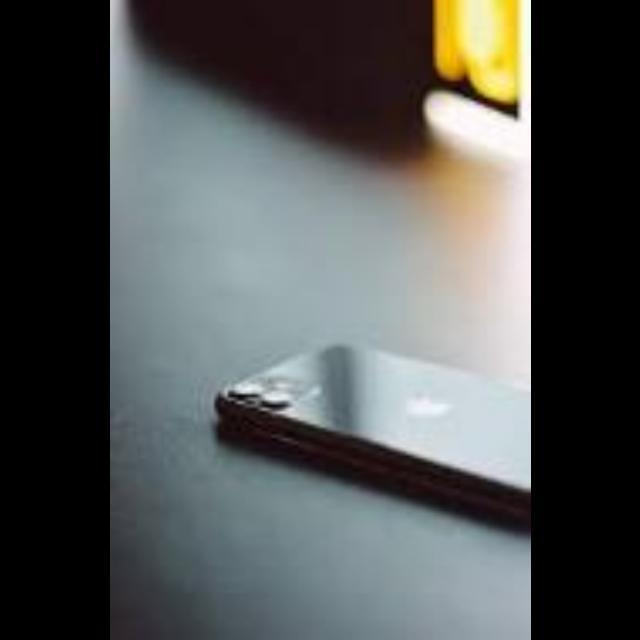PhoneUse: (206, 327, 530, 576)
